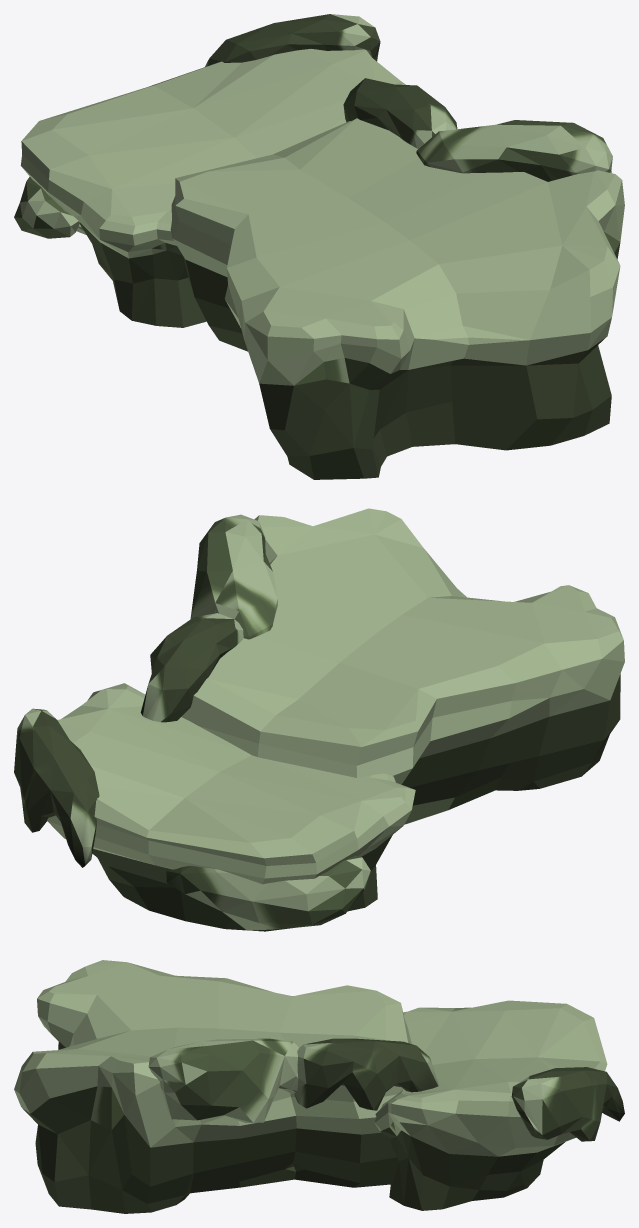
The model's file is EA_Swamp_Island_01a.glb.
The picture shows the model from 3 angles, top to bottom: view 1: azimuth 30°, elevation 25°; view 2: azimuth 150°, elevation 25°; view 3: azimuth 270°, elevation 25°; orthographic projection. The views are drawn at different scales.
Parts seen in each view (by area): view 1: EA_Swamp_Island_01a; view 2: EA_Swamp_Island_01a; view 3: EA_Swamp_Island_01a.
Part boxes in pixels (x1,y1,x2,y2): EA_Swamp_Island_01a: [14, 14, 624, 479]; EA_Swamp_Island_01a: [14, 508, 624, 931]; EA_Swamp_Island_01a: [14, 960, 624, 1213].
Bounding box in the file's own units: 12.12 × 6.52 × 20.29.
Materials: 1 (1 with a texture image).
